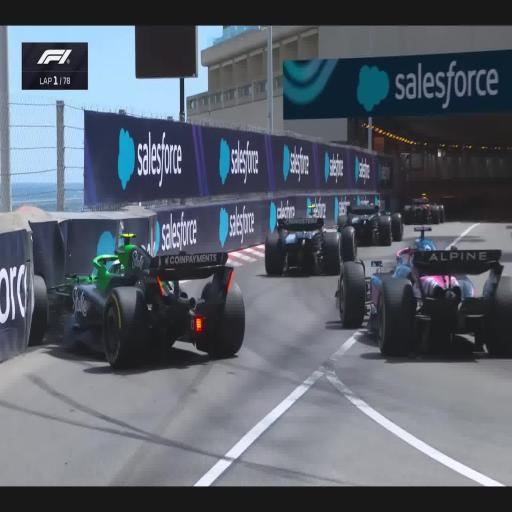f1_car: (44, 234, 245, 366), (335, 226, 512, 355), (265, 206, 339, 275), (337, 205, 403, 245), (403, 193, 445, 224), (343, 247, 356, 260), (38, 289, 44, 303), (342, 236, 350, 245), (36, 321, 45, 328), (345, 247, 349, 251), (35, 300, 38, 303), (41, 314, 43, 318), (42, 282, 43, 285)
